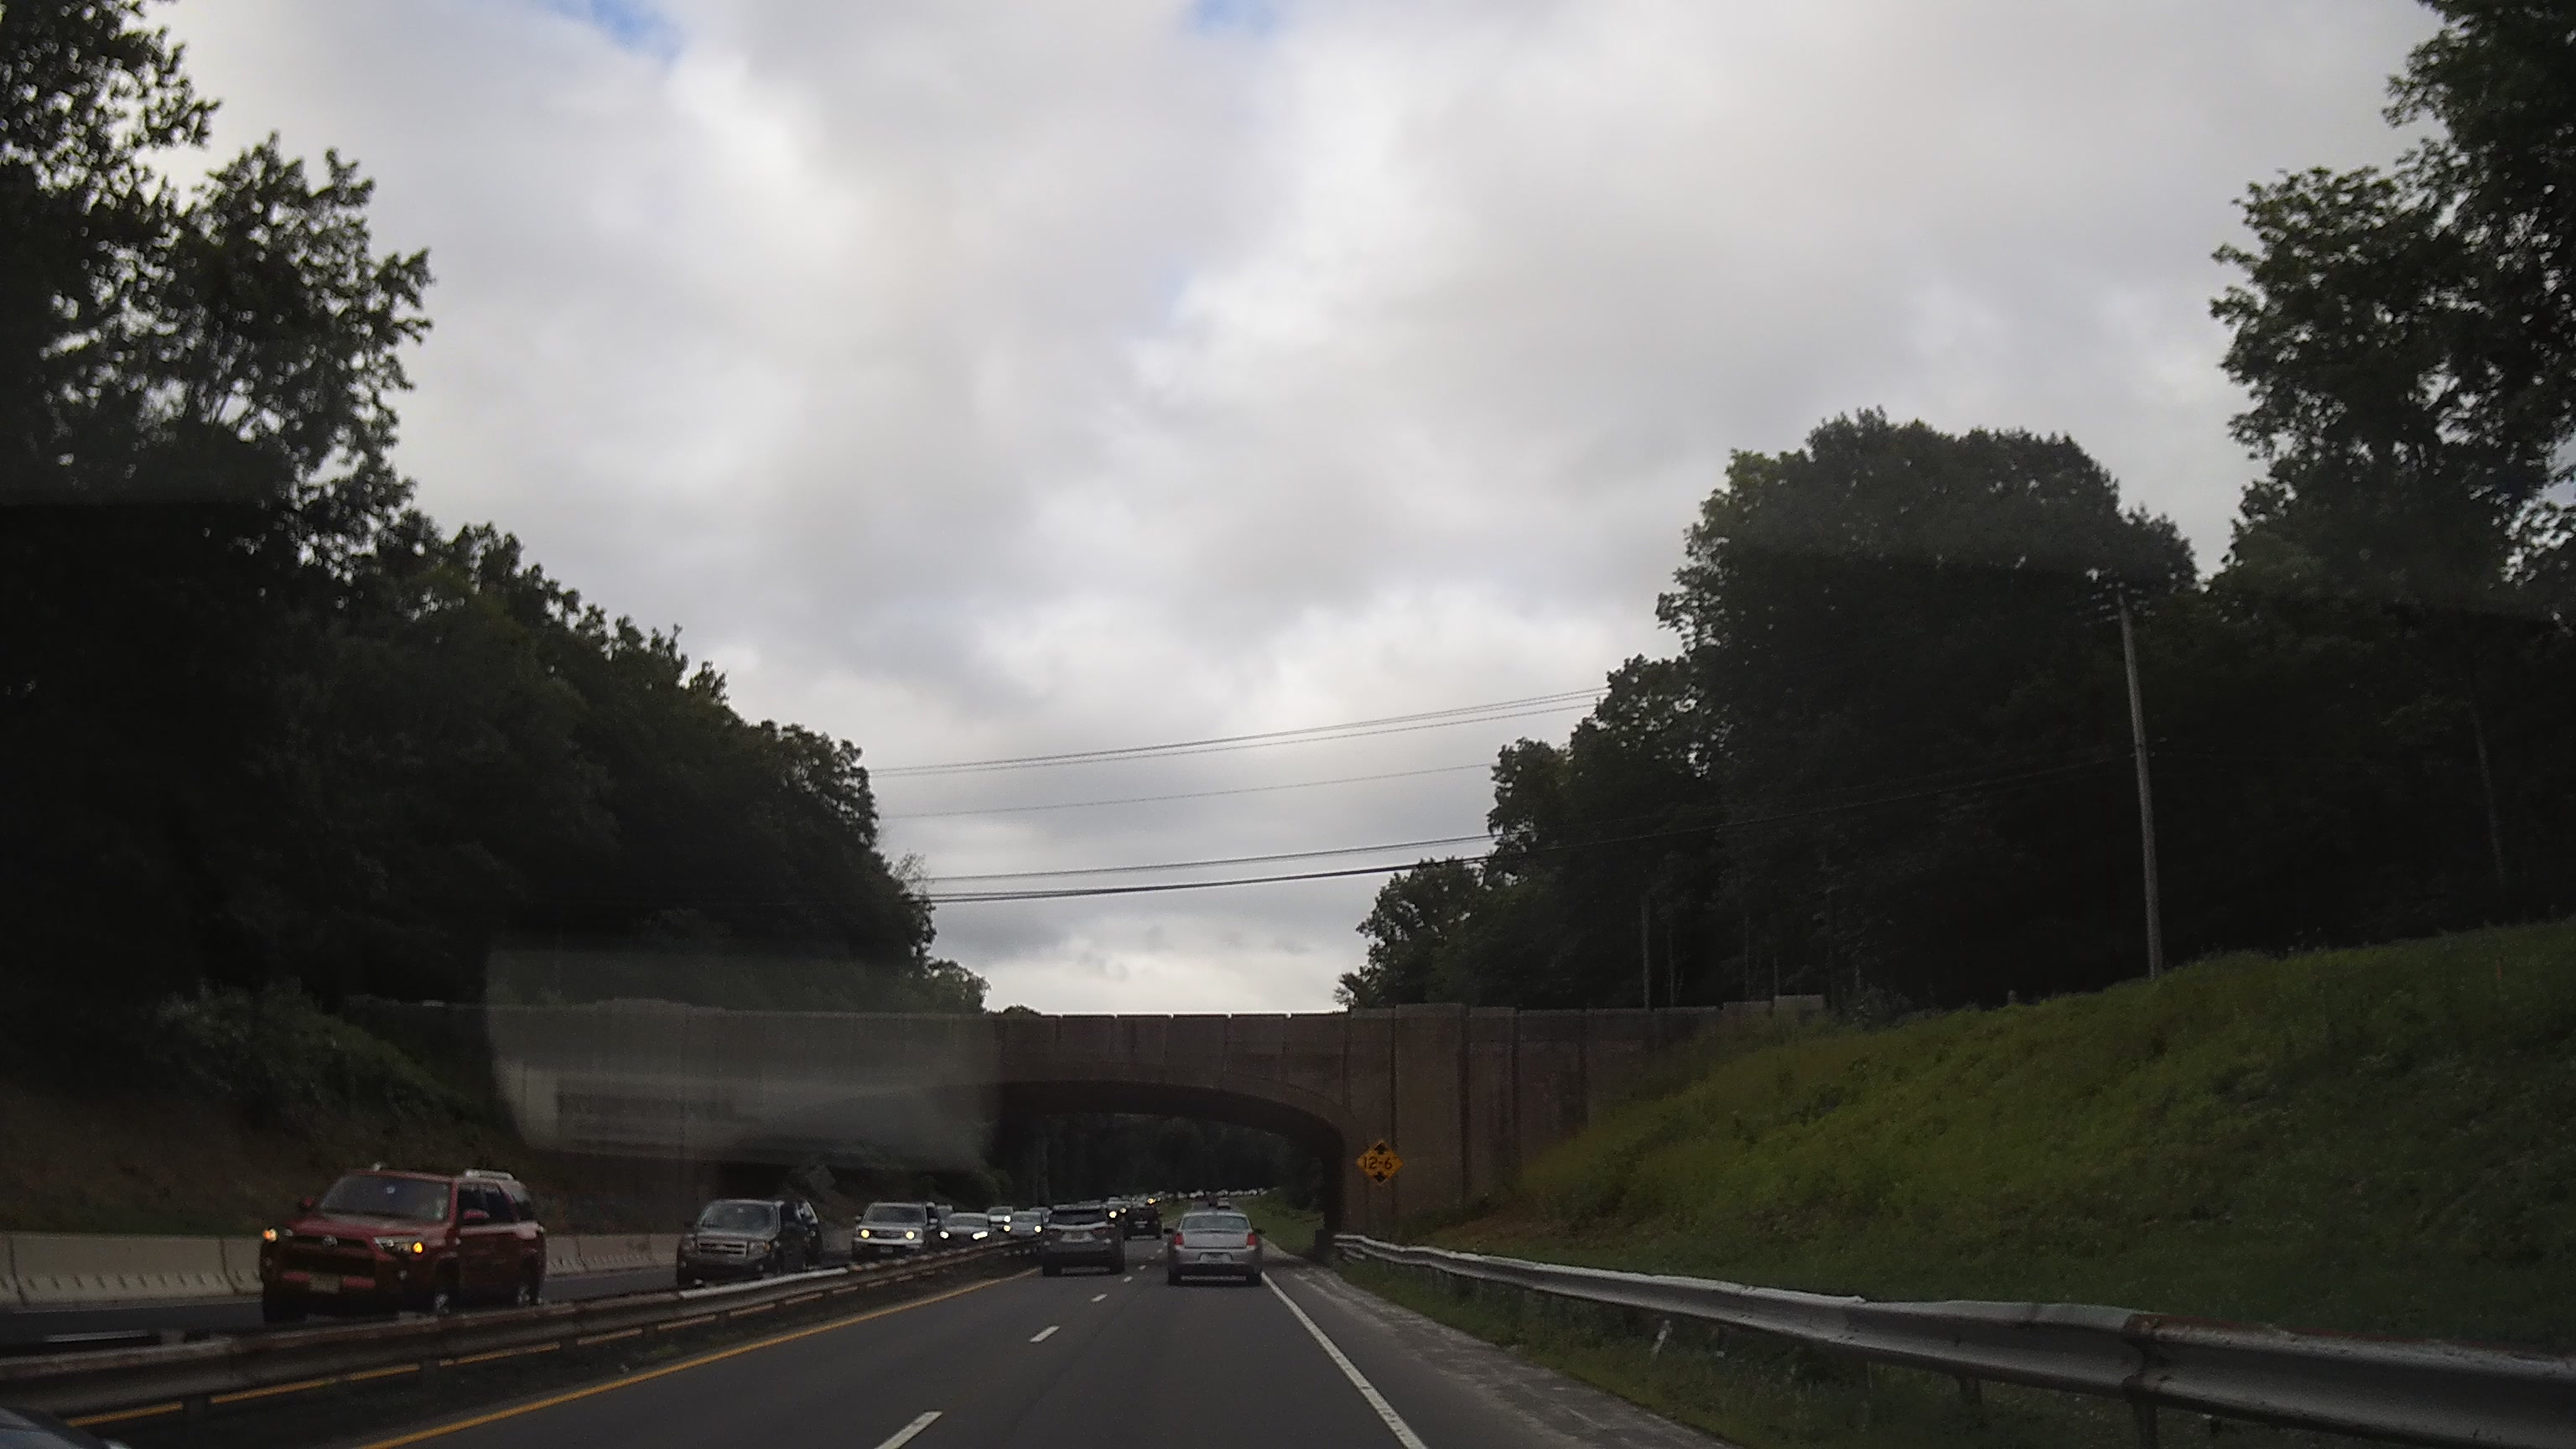low-clearance-sign: (1355, 1138, 1405, 1191)
